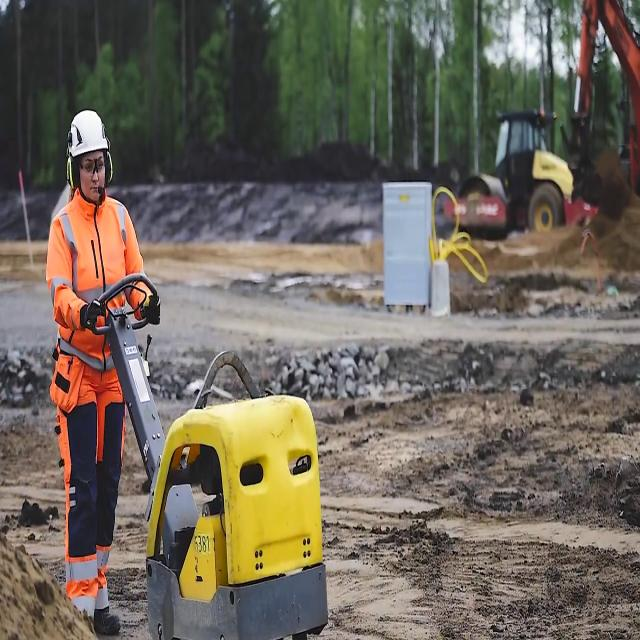earmuff: (64, 156, 81, 192), (102, 150, 115, 188)
glasses: (81, 154, 107, 175)
helmet: (68, 106, 112, 156)
